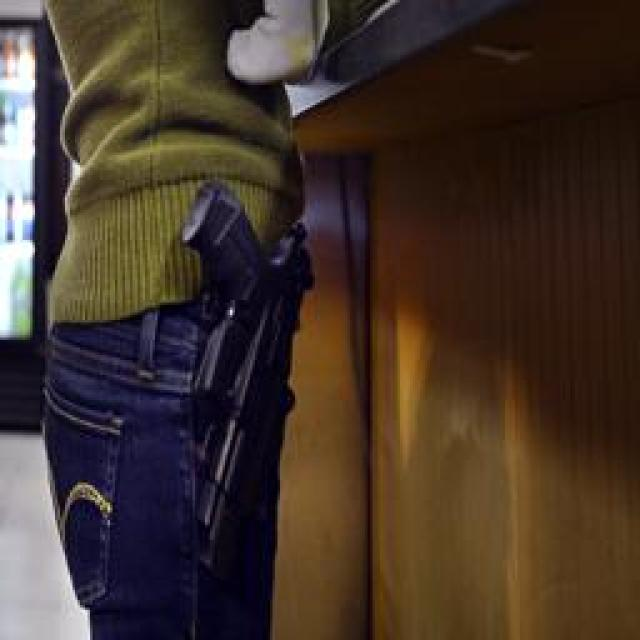Guns: (176, 175, 324, 581)
